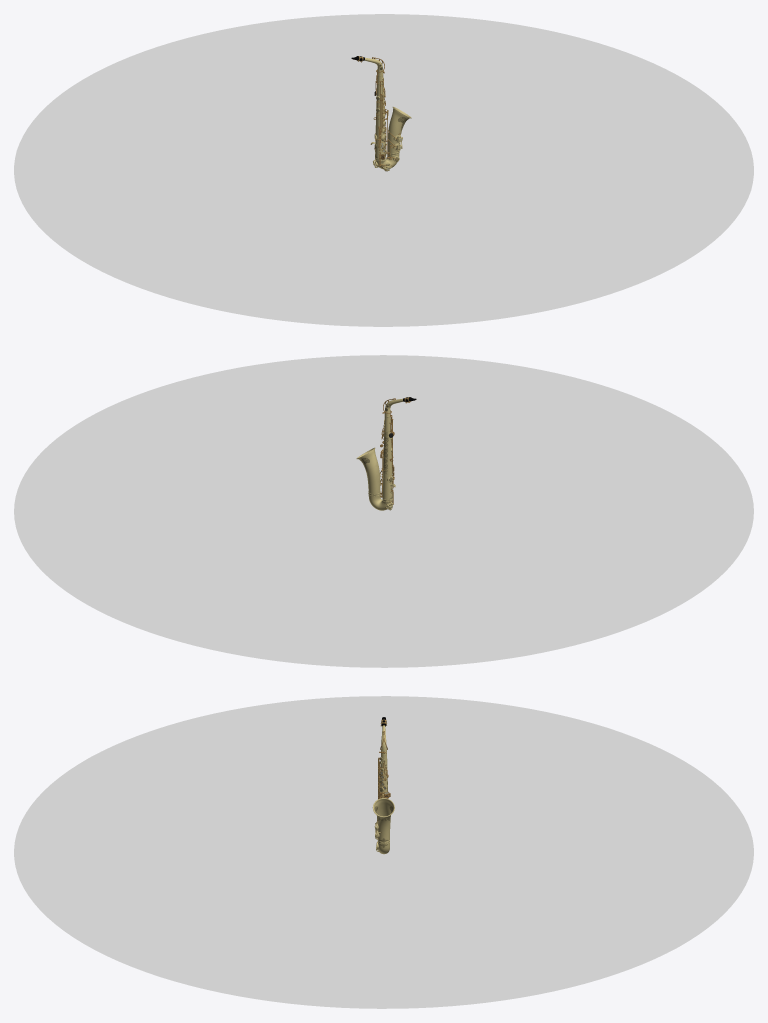
Rendered from alto_saxophone.glb.
The picture shows the model from 3 angles, top to bottom: view 1: azimuth 30°, elevation 25°; view 2: azimuth 150°, elevation 25°; view 3: azimuth 270°, elevation 25°; orthographic projection.
Parts seen in each view (by area): view 1: Circle, alto sax; view 2: Circle, alto sax; view 3: Circle, alto sax.
Part boxes in pixels (x1,y1,x2,y2): Circle: (14,14,753,326); alto sax: (364,57,411,169); Circle: (14,355,753,667); alto sax: (356,398,403,510); Circle: (14,696,753,1008); alto sax: (372,725,394,854).
Bounding box in the file's own units: 4.99 × 0.8968 × 4.99.
8 materials, 2 textured.
